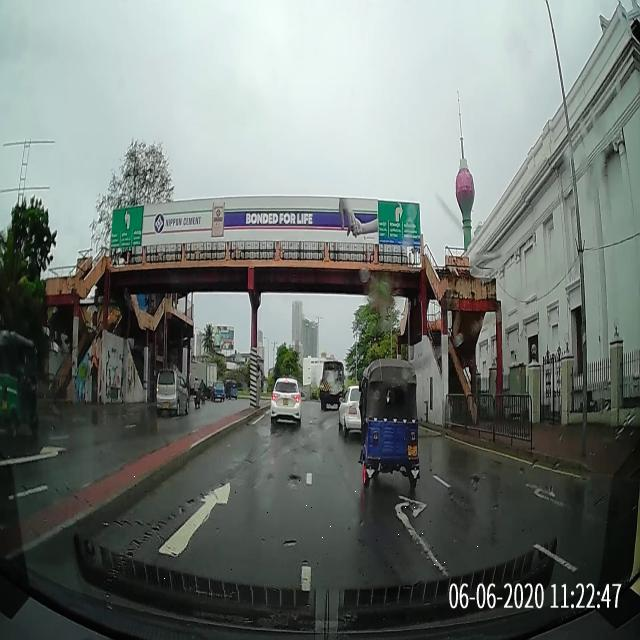forward: (53, 456, 310, 590)
right: (306, 488, 537, 591)
